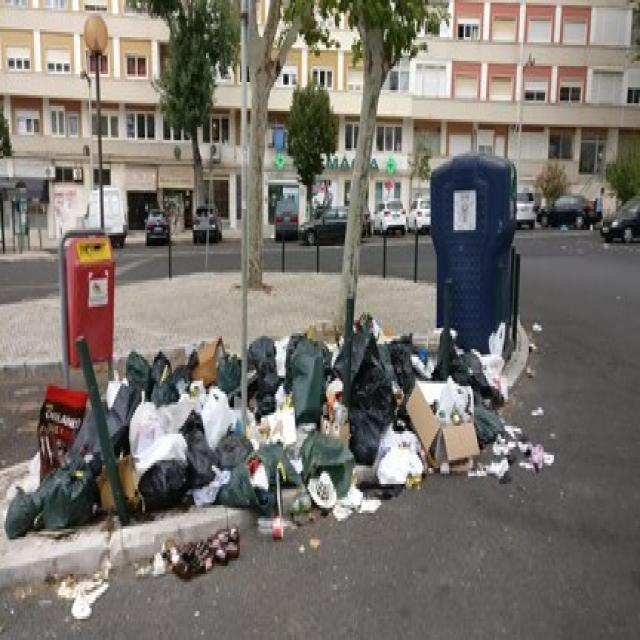garbage: (0, 297, 559, 584)
